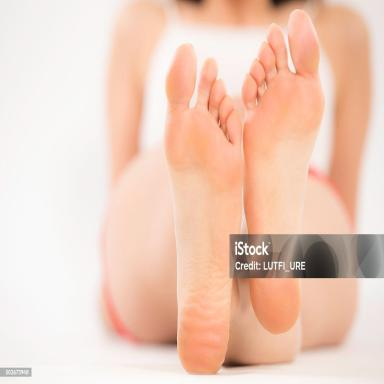normal skin: (164, 10, 324, 374), (250, 279, 301, 334)
